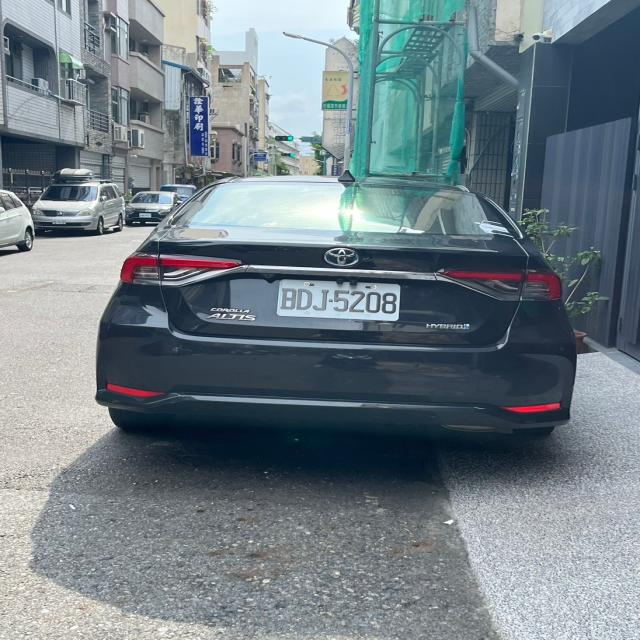license-plate: (274, 276, 404, 324)
